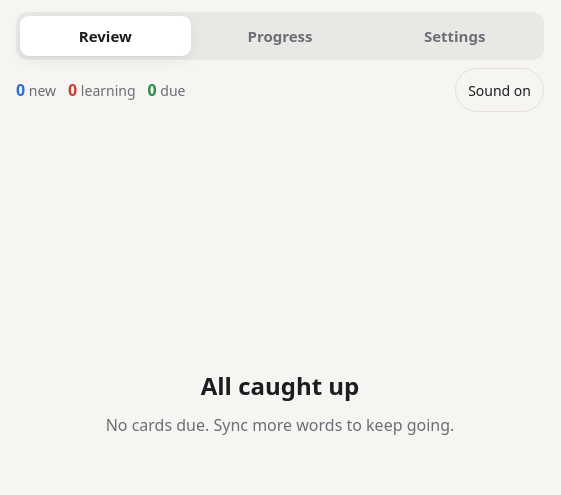
Test: Signing in › returns to the login screen when the session stops working
Expected: the text "All caught up" is shown, [201,368,359,402]
What coordinates should you click on to do the following:
click the link "Settings"
I would click on:
 (455, 36)
Its box is [424,26,485,46].
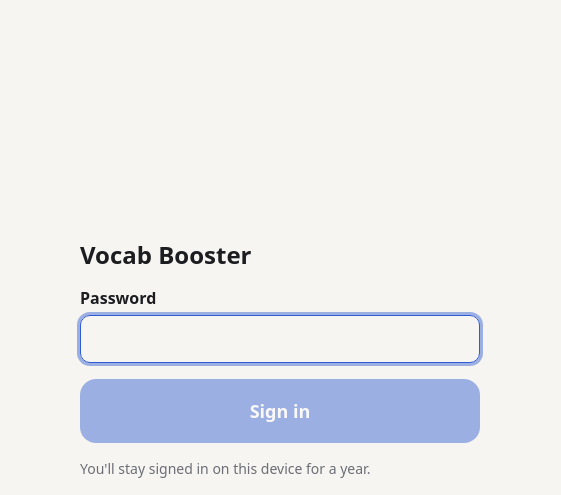
Expected: the password field labelled "Password" is shown, [80,315,480,363]
